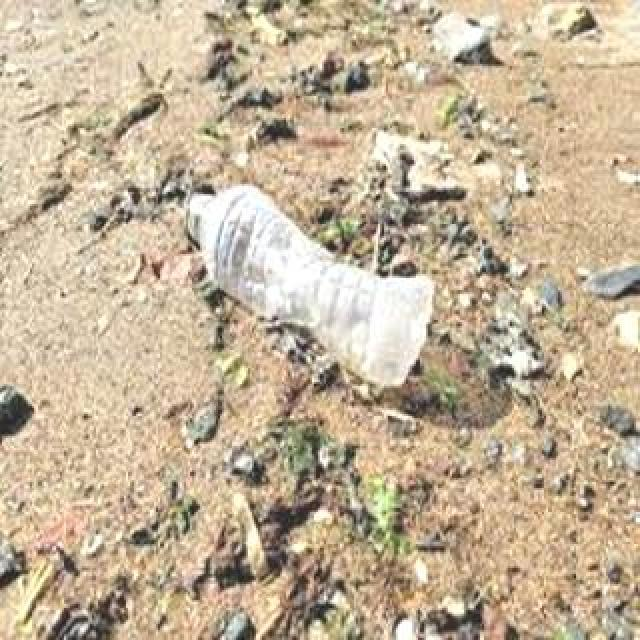Pet_Bottle: (176, 181, 442, 403)
